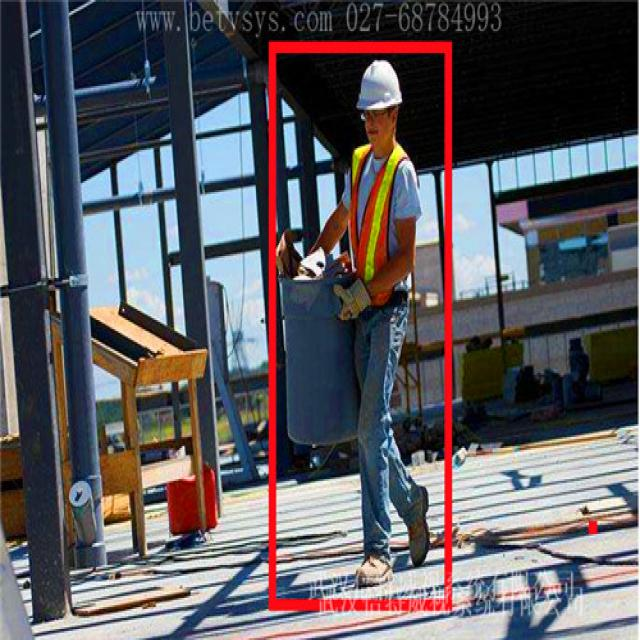Reflective-Jacket: (334, 137, 426, 322)
Safety-Helmet: (351, 55, 408, 121)
